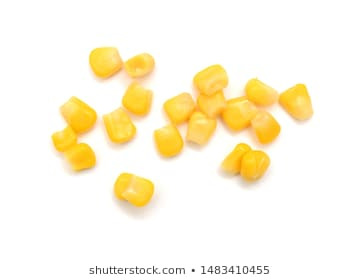corn: (60, 95, 99, 137), (190, 62, 231, 97), (182, 108, 217, 149), (280, 84, 317, 122), (248, 106, 280, 149), (88, 45, 125, 82), (161, 90, 198, 126), (103, 106, 137, 144), (120, 82, 155, 117), (153, 125, 186, 161), (65, 141, 99, 175), (125, 173, 155, 208)
